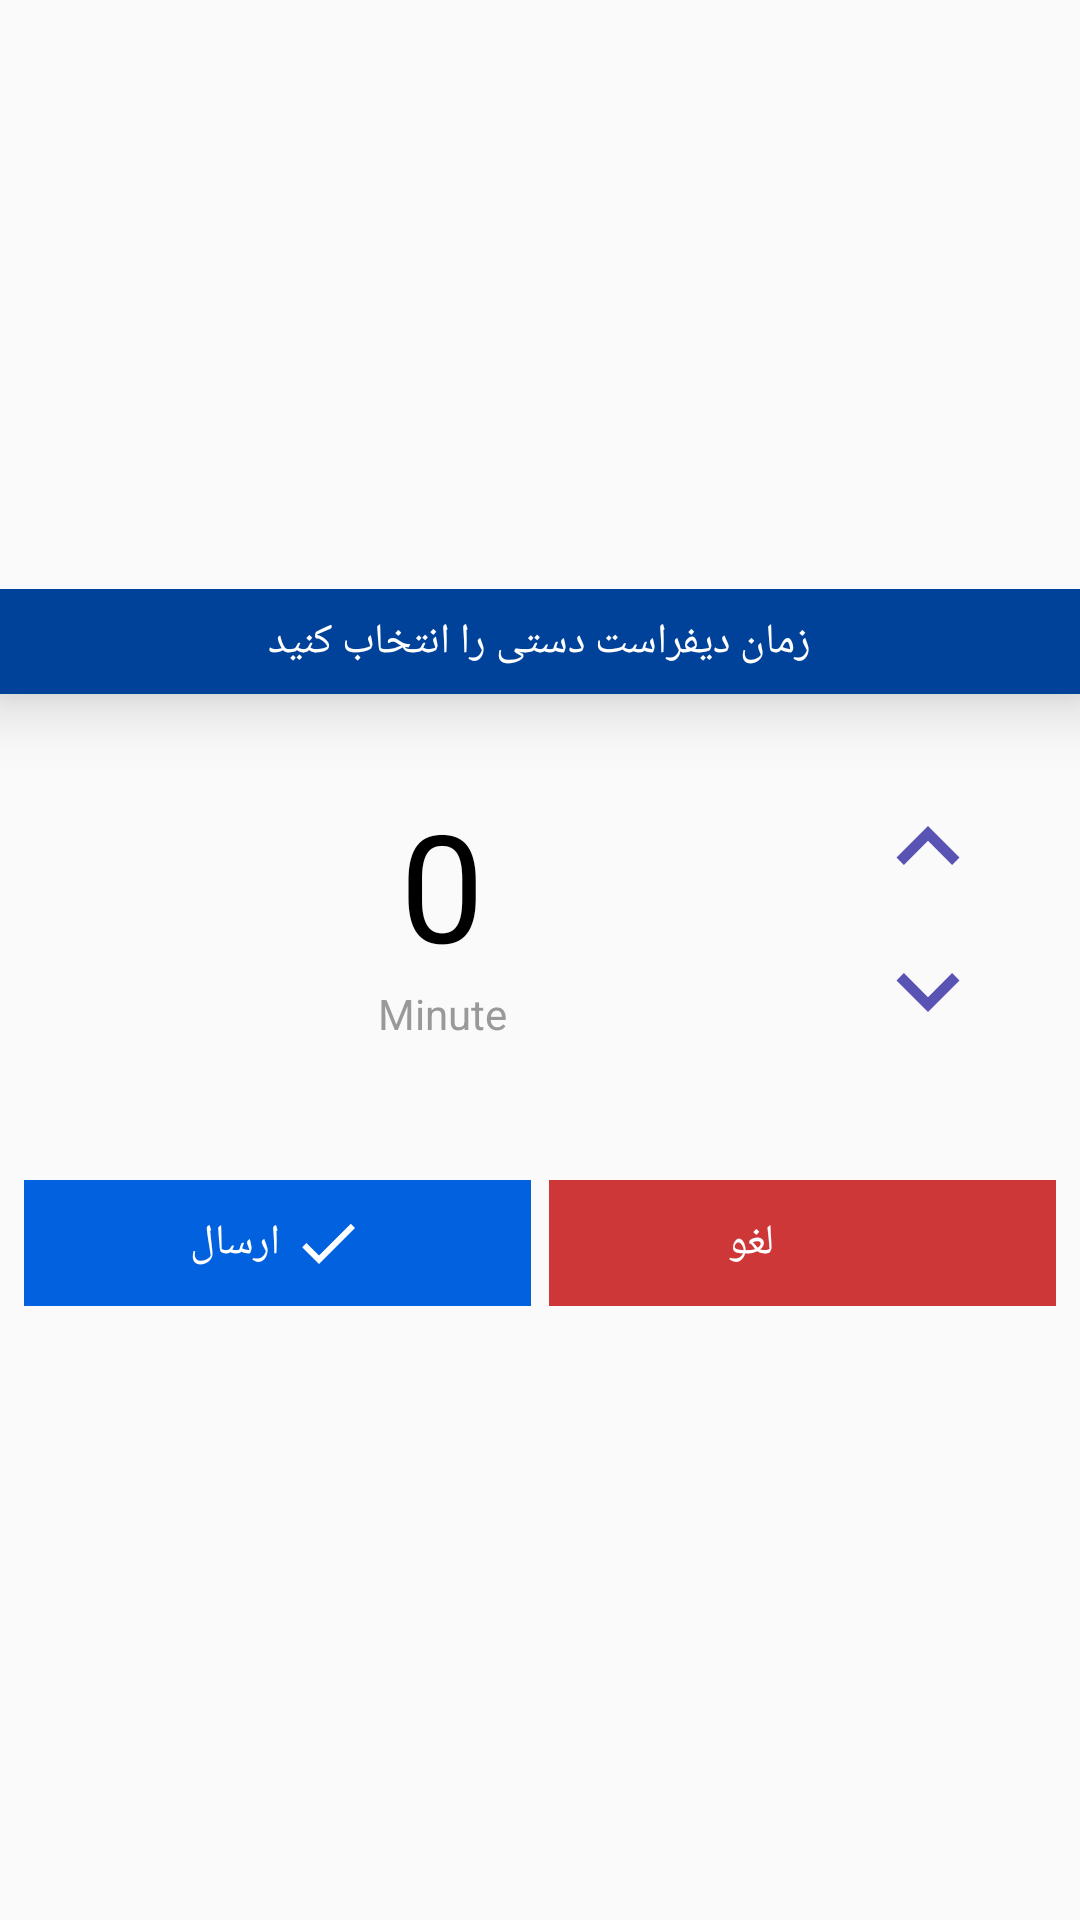

Where icons sit on this 1080x1920 app screen, as Rect(x1, y1, x2, y2):
done: Rect(302, 1224, 355, 1264)
expand less: Rect(896, 826, 960, 865)
expand more: Rect(896, 973, 960, 1012)
